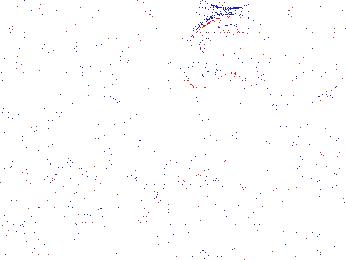moon jellyfish: (77, 6, 173, 106), (184, 14, 268, 92), (245, 19, 335, 77)
